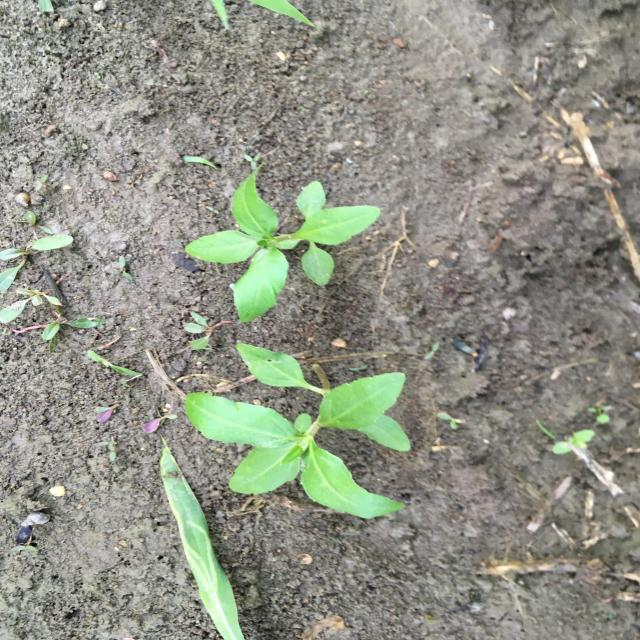Eclipta: (182, 342, 415, 522), (184, 162, 384, 324)
